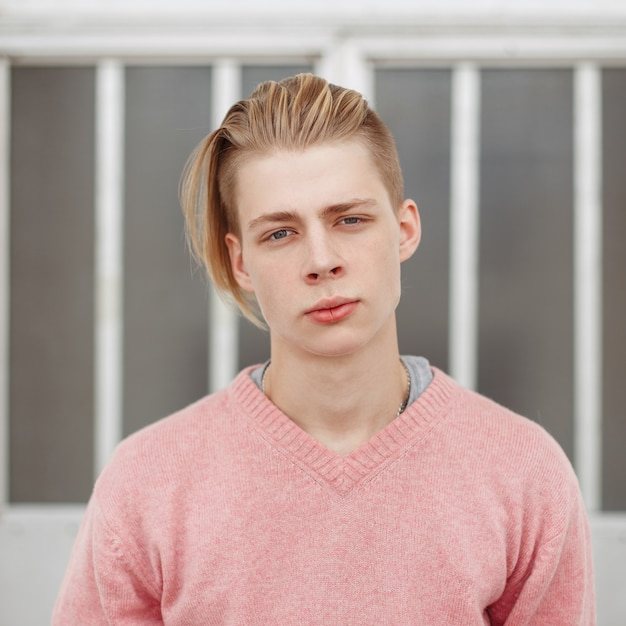teen: (191, 76, 440, 368)
